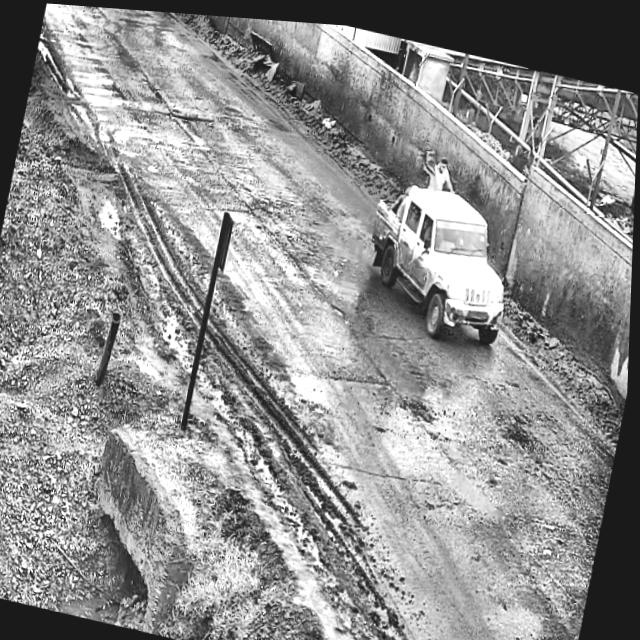light_vehicle: (348, 158, 538, 359)
